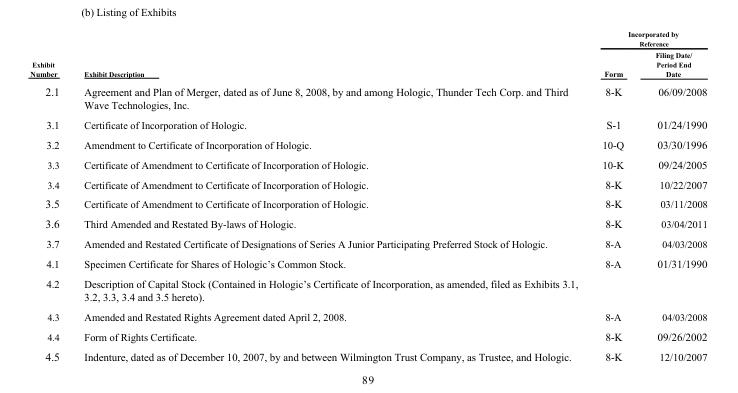table: (29, 29, 706, 362)
table column: (71, 29, 589, 362), (638, 29, 706, 362), (589, 29, 638, 362), (29, 29, 71, 362)
table column header: (29, 29, 706, 81)
table row: (29, 48, 706, 81), (29, 81, 706, 114), (29, 273, 706, 306), (29, 114, 706, 134), (29, 134, 706, 154), (29, 173, 706, 193), (29, 193, 706, 213), (29, 213, 706, 233), (29, 233, 706, 253), (29, 253, 706, 273), (29, 306, 706, 326), (29, 326, 706, 346), (29, 29, 706, 48), (29, 154, 706, 173), (29, 346, 706, 362)
table spanning cell: (71, 29, 589, 81), (589, 29, 706, 48), (29, 29, 71, 81)
